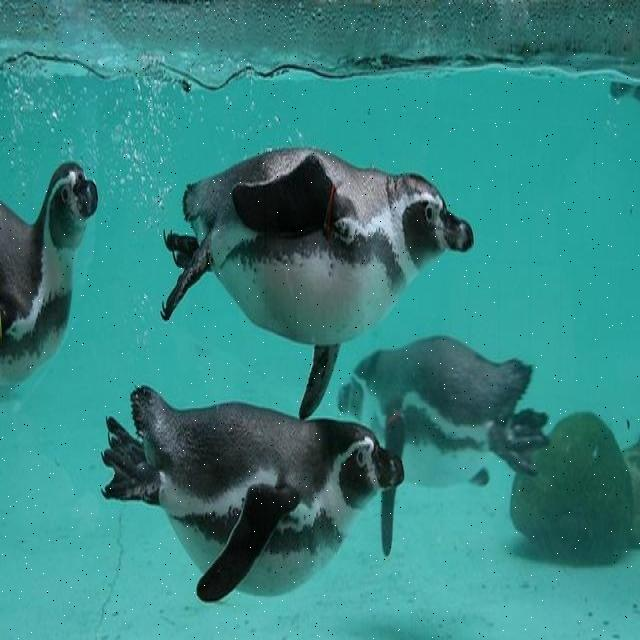fish: (159, 148, 472, 417), (104, 384, 402, 604), (334, 340, 552, 556), (1, 158, 95, 388)
sea-floor: (510, 418, 639, 565)
